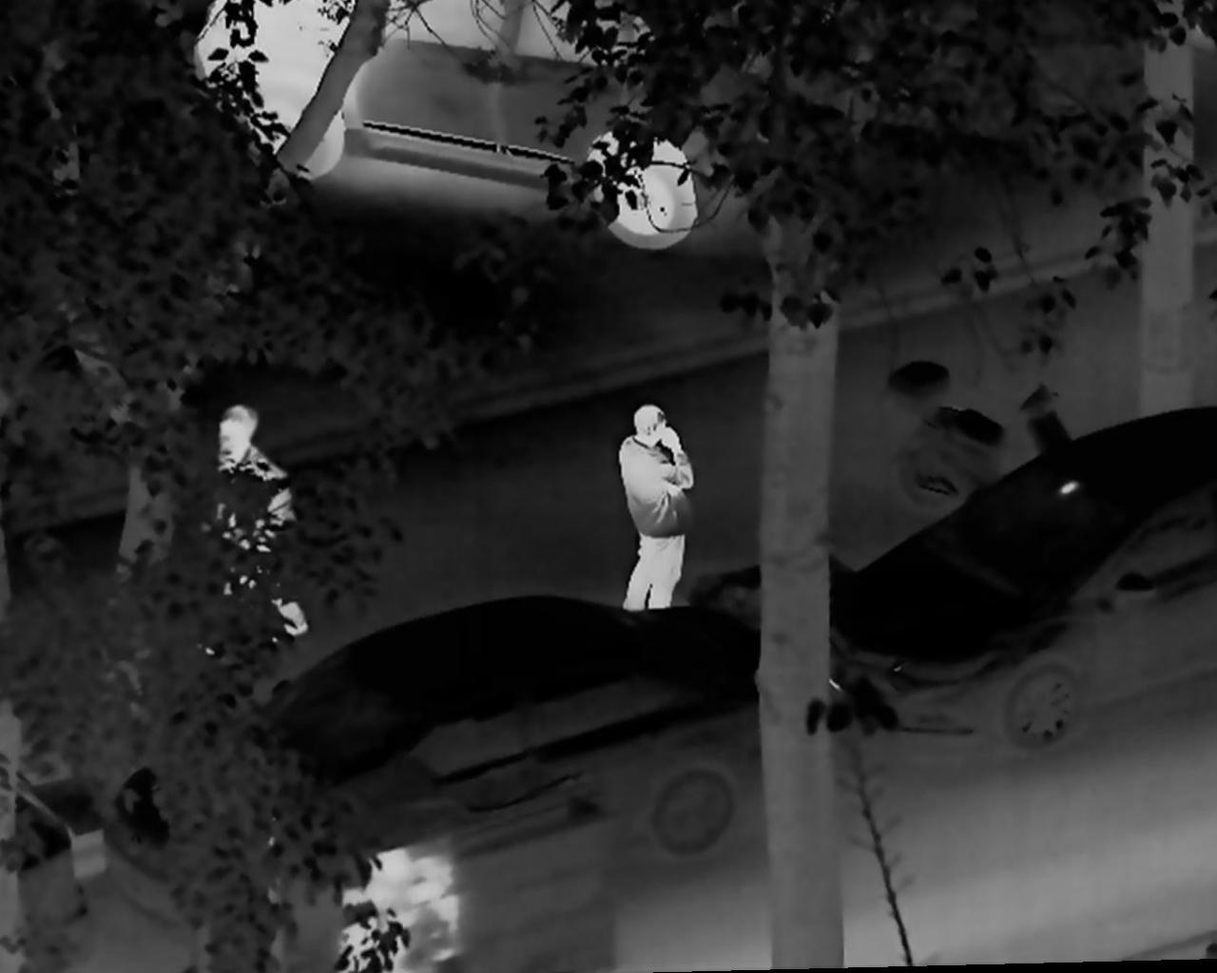person: (203, 400, 313, 658), (608, 400, 697, 615), (334, 848, 476, 973)
